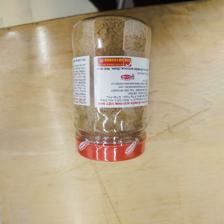Hao_hao: (70, 14, 151, 164)
